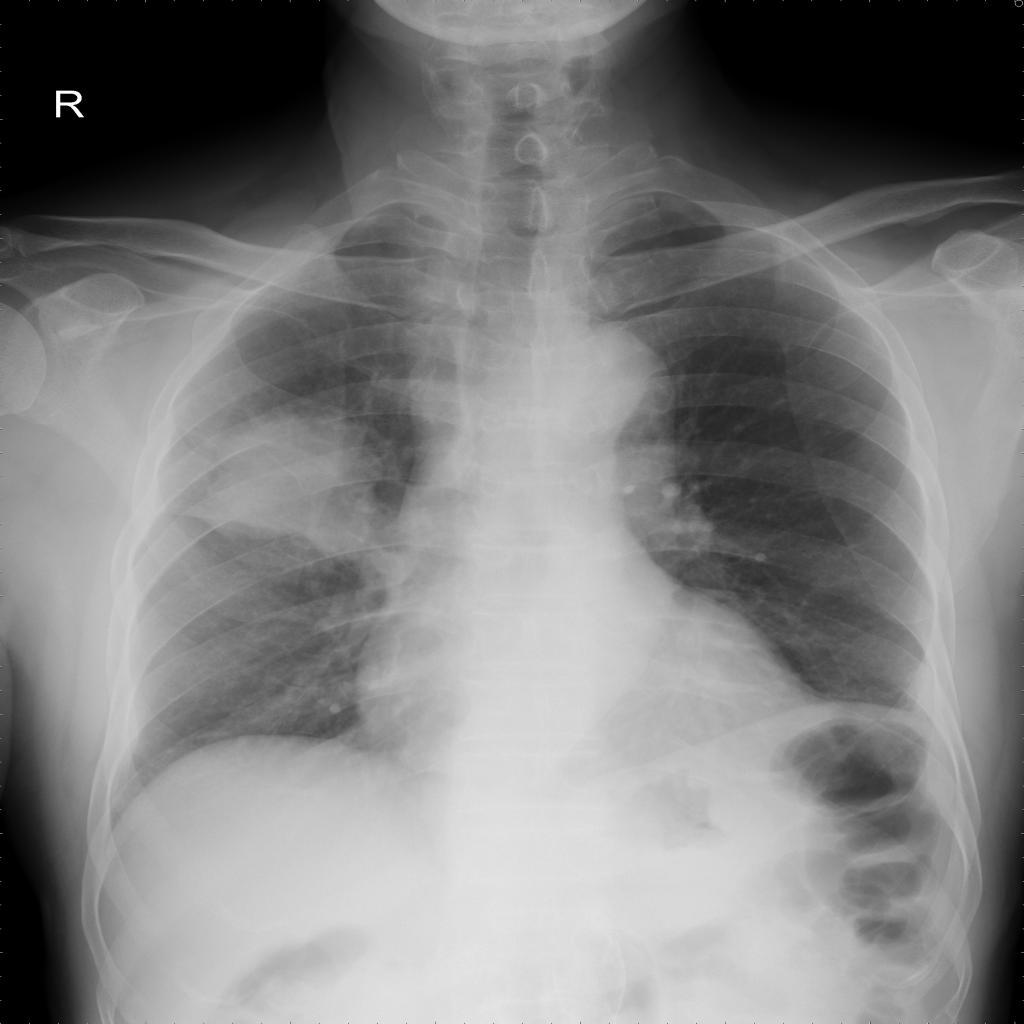Nodule: (203, 415, 383, 558)
